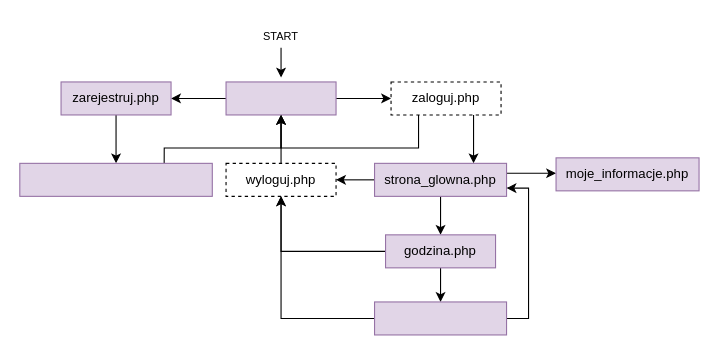
The diagram is 718 pixels wide and 354 high, and some of its shapes have lost their labels. The box of each missing label's shape, as (x1, y1, x2, y2) in pixels:
index.php: (225, 81, 336, 115)
wizyta_zapisana.php: (373, 301, 507, 335)
zarejestrowano_pomyslnie.php: (19, 162, 212, 196)
